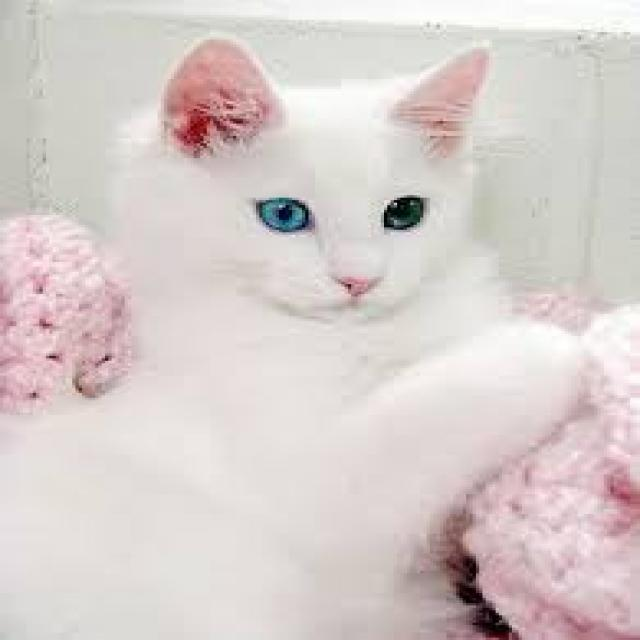Cat: (4, 29, 594, 639)
